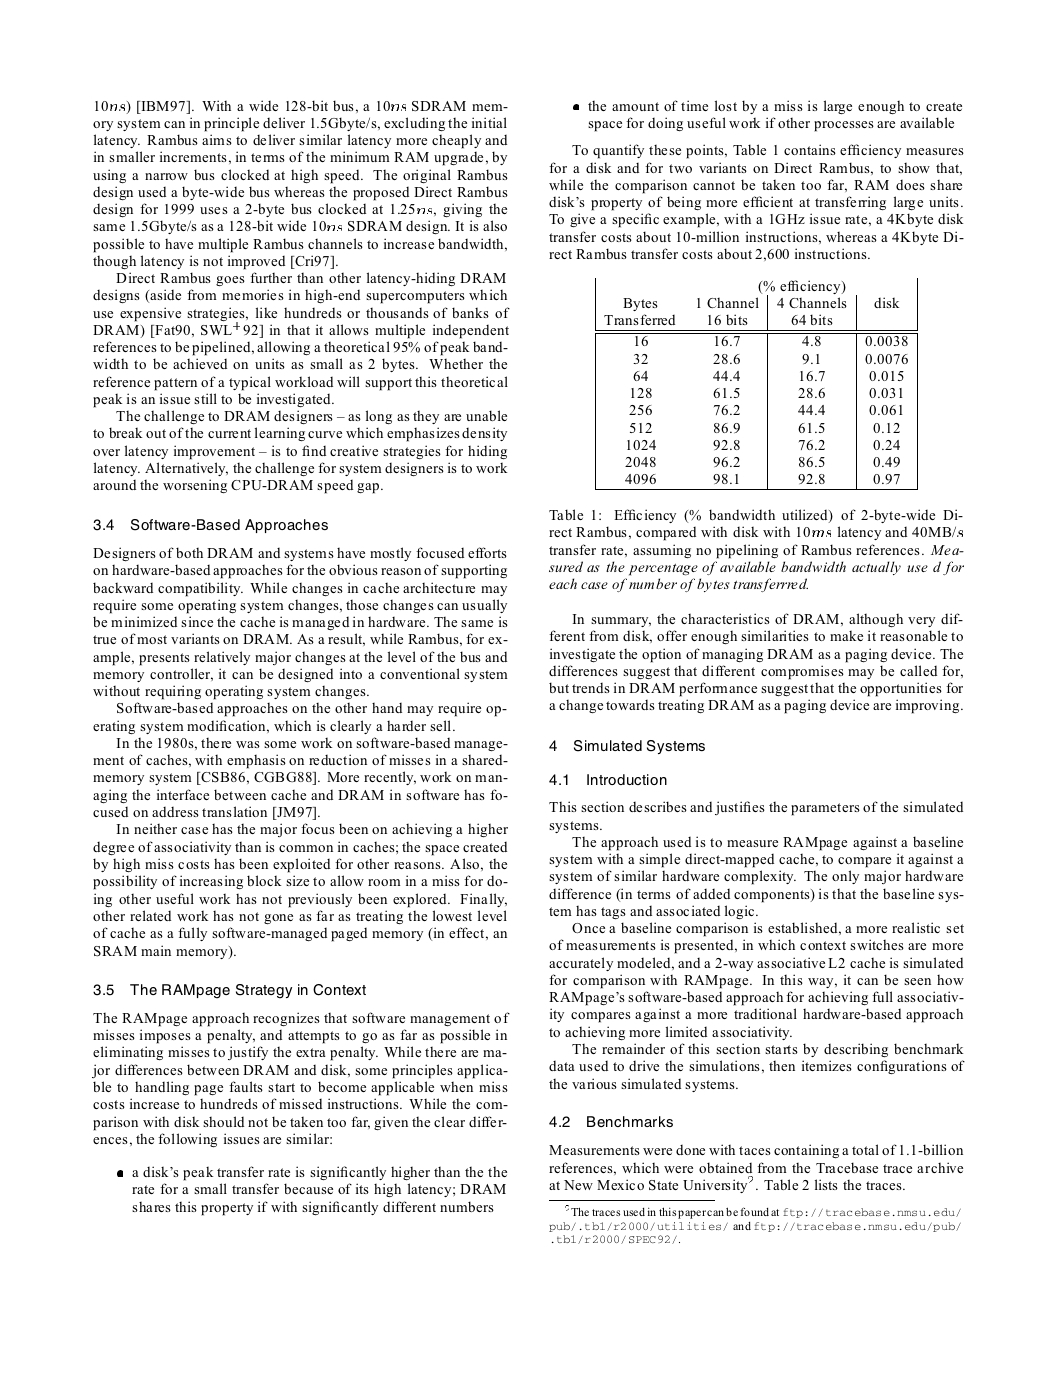Table: (595, 277, 917, 490)
